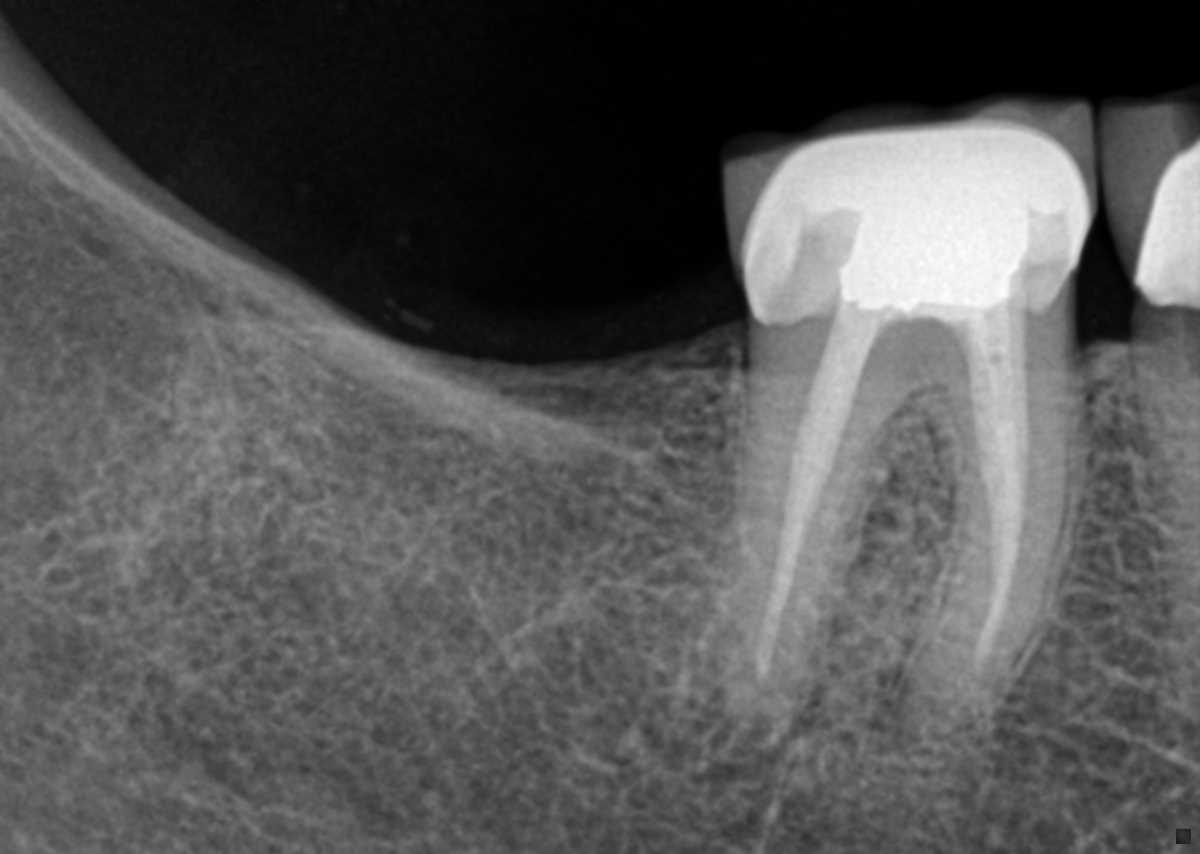Distal Canal: (723, 353, 916, 736)
Main Root: (1131, 343, 1200, 707)
Mesial Root: (897, 353, 1086, 736)
Root Canal Filling: (759, 310, 878, 689), (973, 312, 1032, 672)
